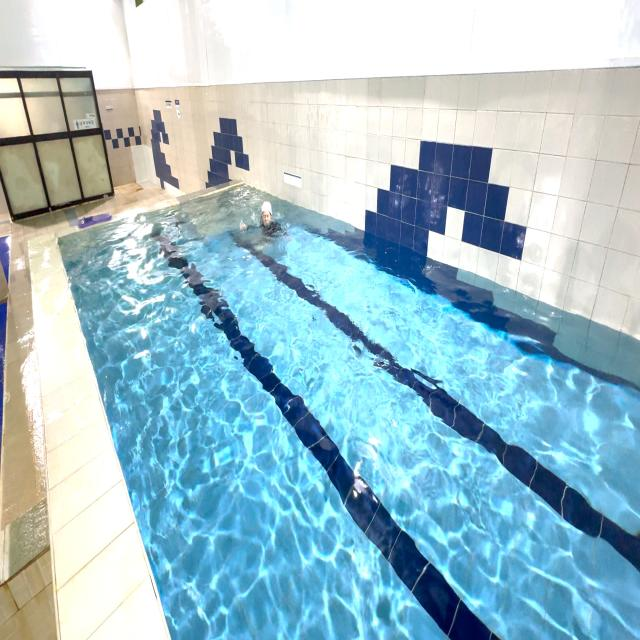Drowning: (236, 196, 295, 246)
